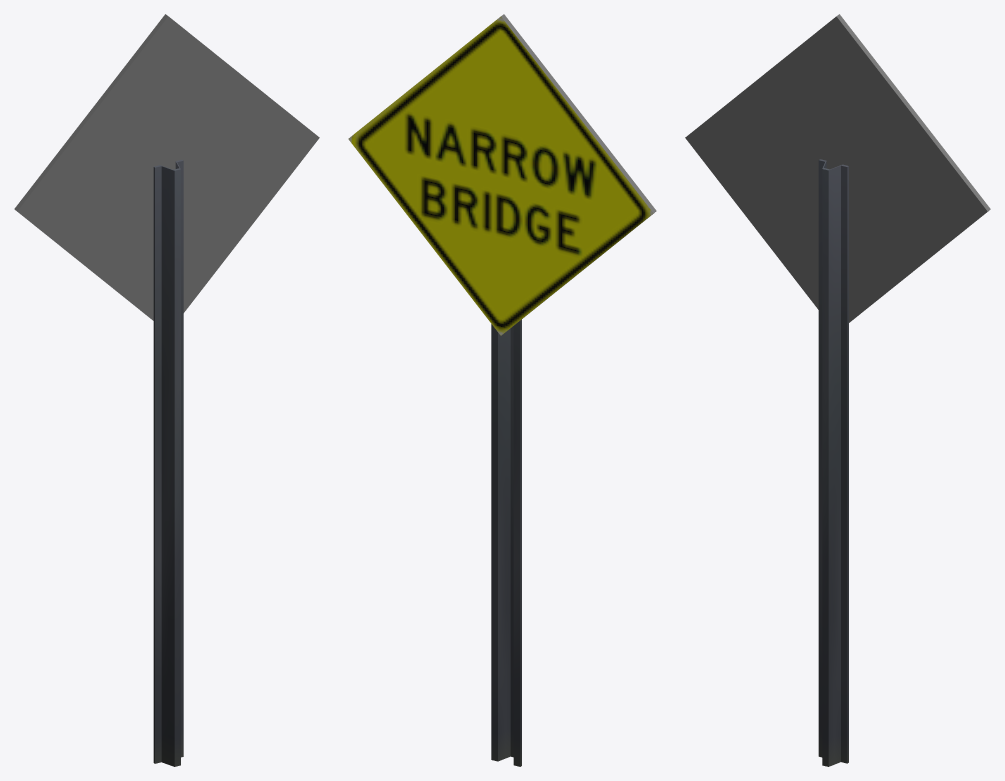
Rendered from warning_narrowbridge.obj.
The picture shows the model from 3 angles, left to right: view 1: azimuth 30°, elevation 25°; view 2: azimuth 150°, elevation 25°; view 3: azimuth 330°, elevation 25°; orthographic projection.
Parts seen in each view (by area): view 1: Mesh; view 2: Mesh; view 3: Mesh.
Part boxes in pixels (<box>): Mesh: <box>14,14,319,766</box>; Mesh: <box>348,14,656,766</box>; Mesh: <box>685,14,990,766</box>.
Size of the model in its own units: 0.2382 by 0.5585 by 0.0181.
